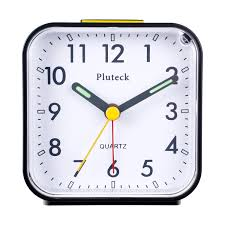alarm_clock: (17, 17, 208, 206)
